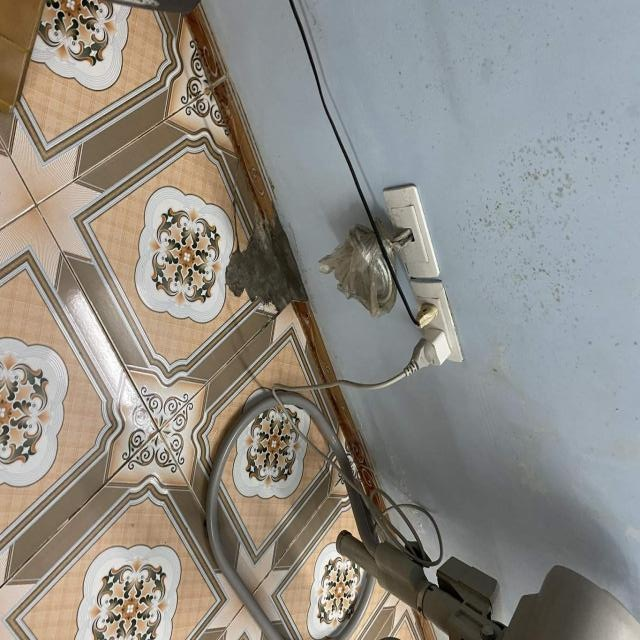outlet: (383, 183, 440, 277), (409, 280, 464, 364)
